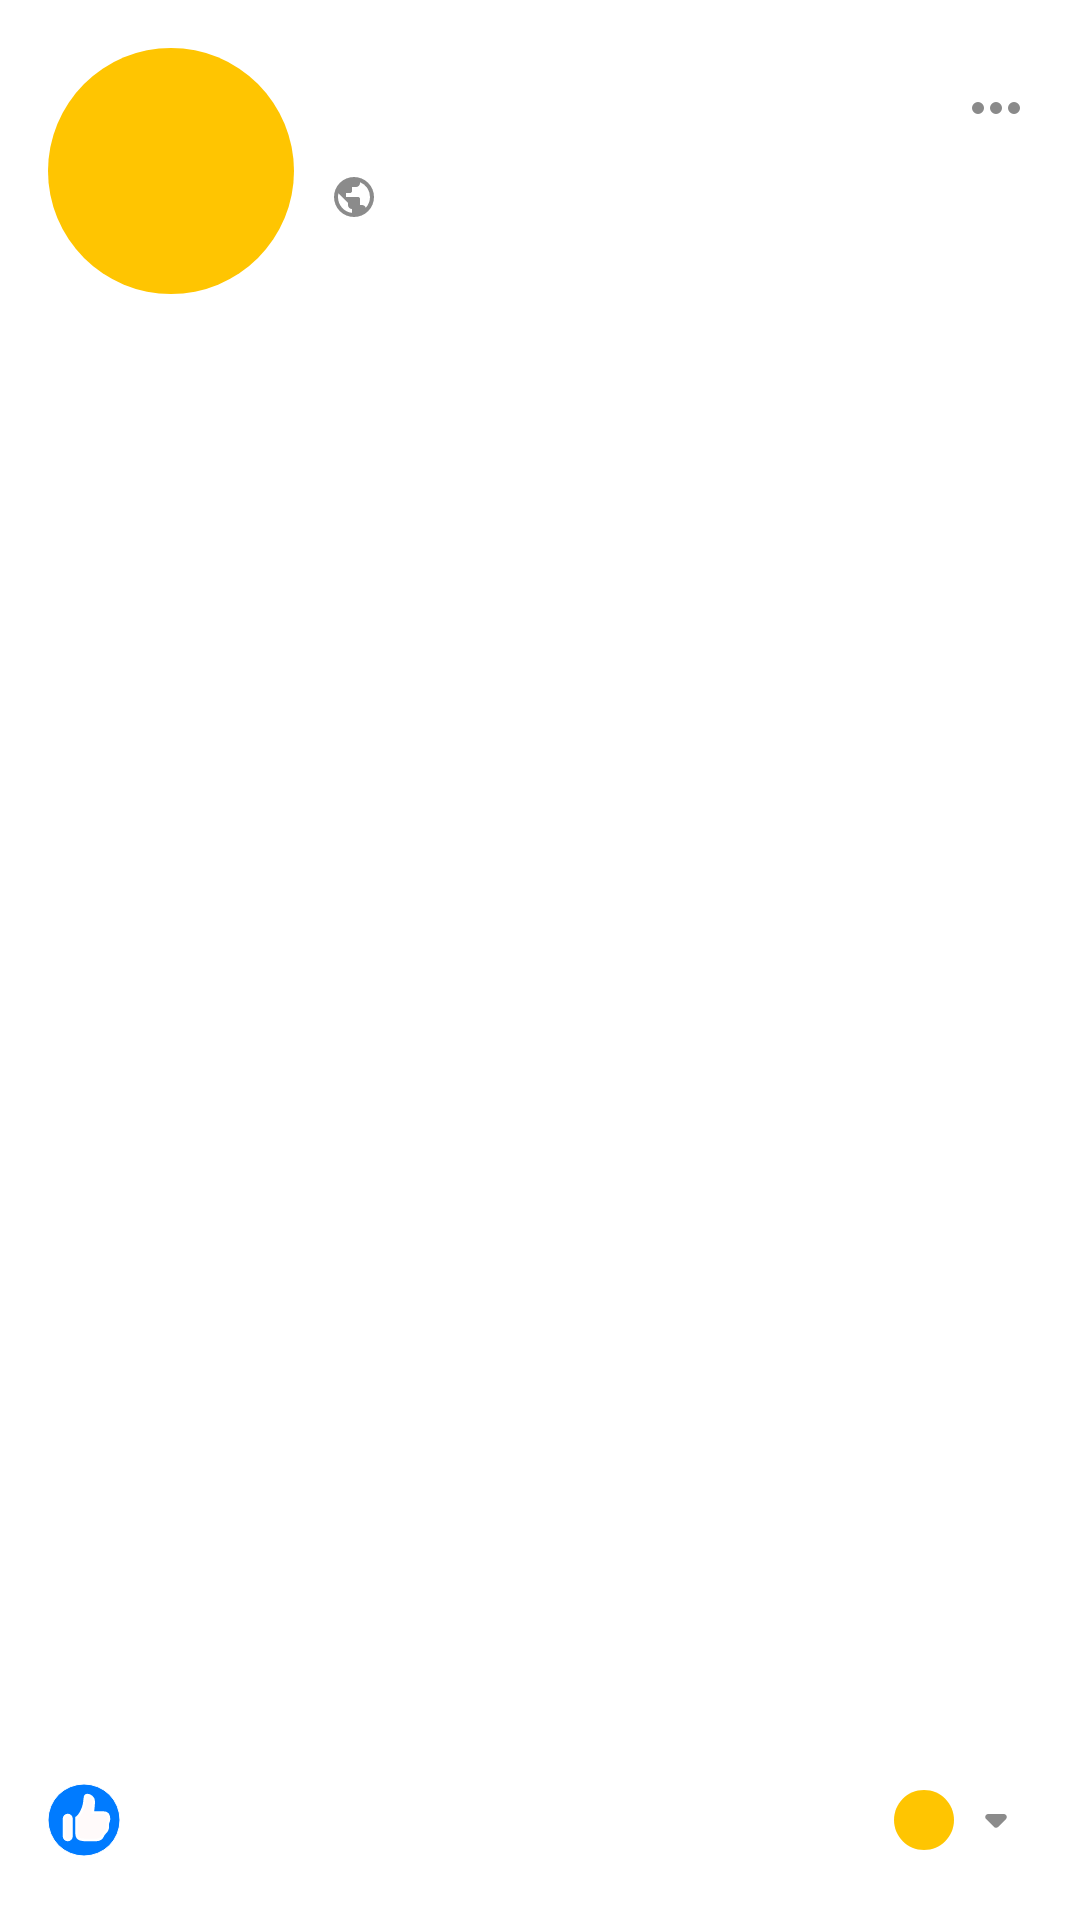

Point at icon controls on the screen. Image size 1080 × 1920, points as point (x, y).
more: point (996, 108)
